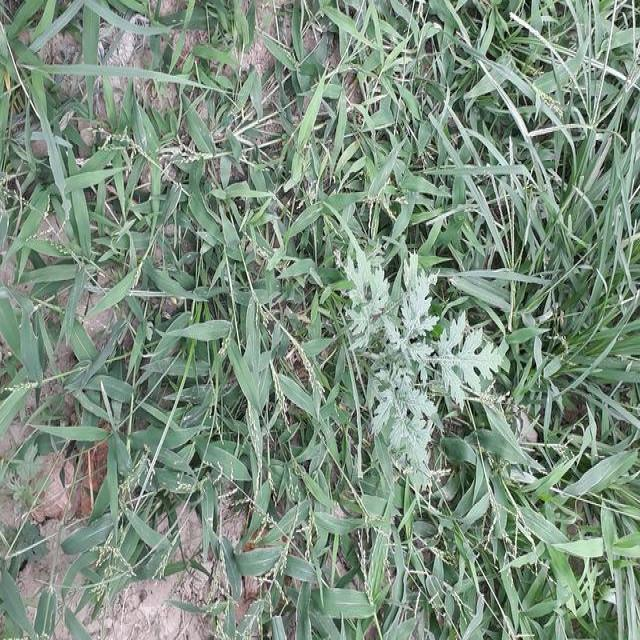weed: (157, 111, 640, 640)
